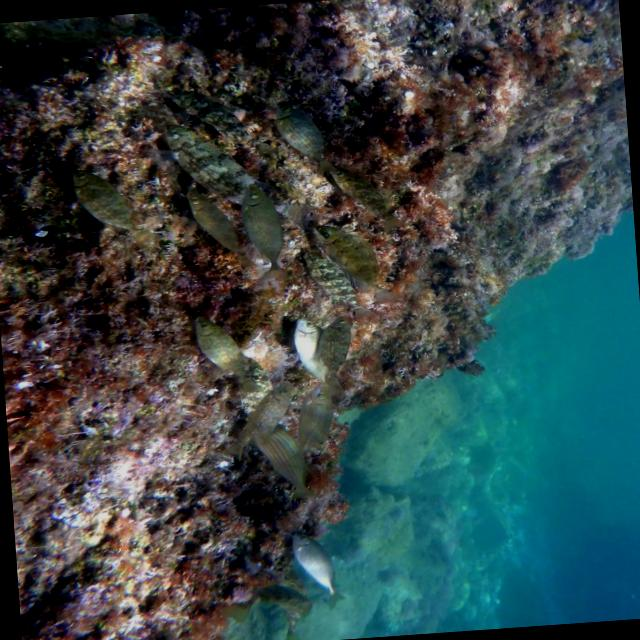Sokar Baligi: (58, 156, 170, 260), (298, 215, 408, 308), (282, 522, 360, 614), (238, 174, 298, 293)
